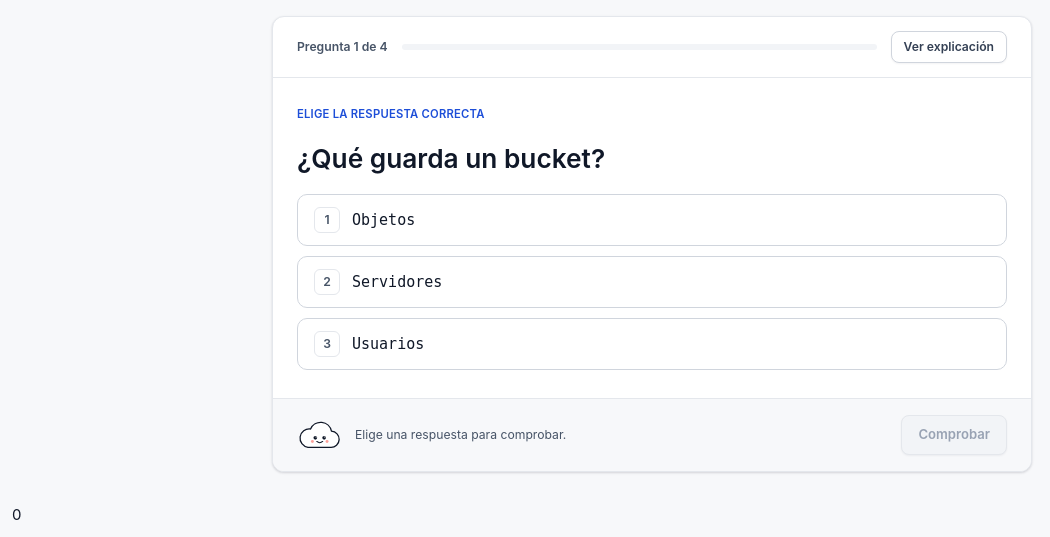
Test: a right answer then "Continuar" moves to the next exercise
Expected: the text "Pregunta 1 de 4" is shown, [297,38,388,56]
What coordinates should you click on to do the following:
click the radio button labelled "1 Objetos"
I would click on:
 (384, 220)
Its box is [297,194,1007,246].
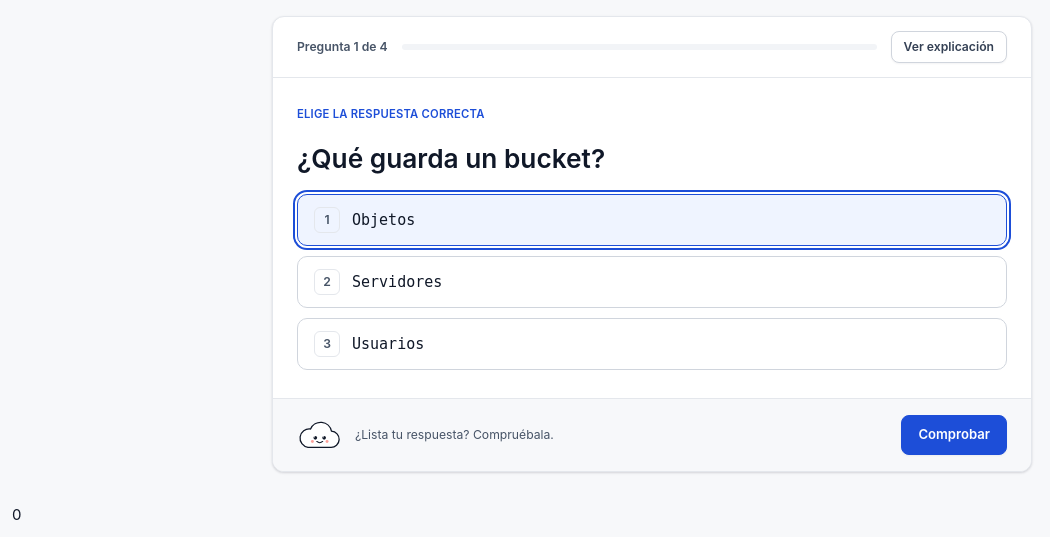
What coordinates should you click on to do the following:
click the button "Comprobar"
I would click on:
 (954, 435)
Its box is [901,415,1007,455].
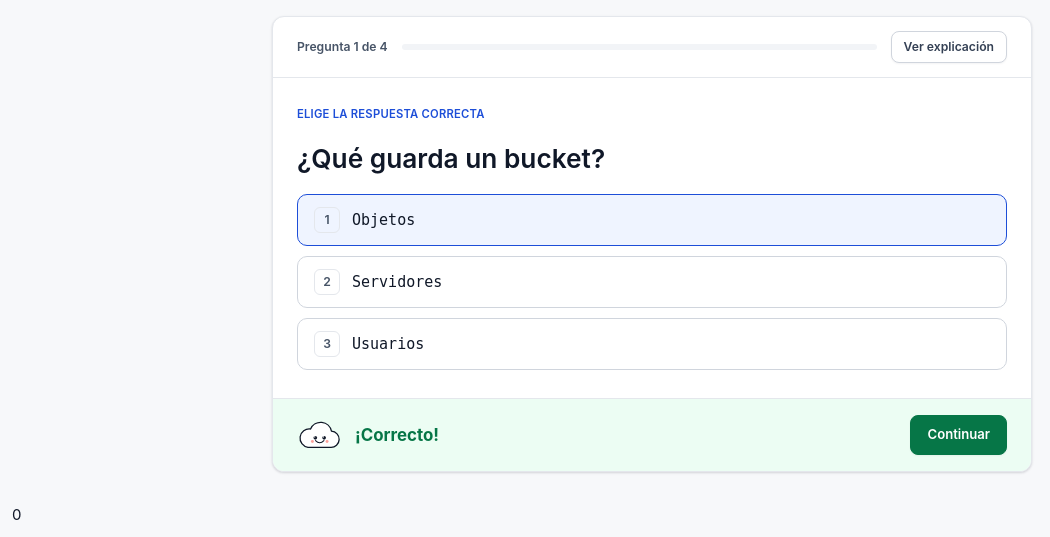
Expected: the message reads "¡Correcto!", [355,425,439,445]
What coordinates should you click on to do the following:
click the button "Continuar"
I would click on:
 (959, 435)
Its box is [910,415,1007,455].
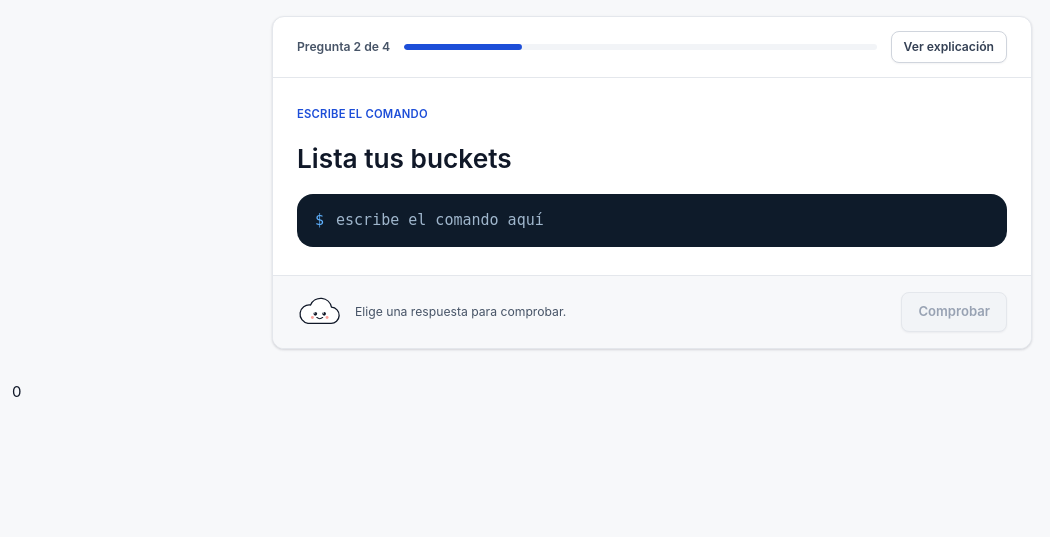
Expected: the text "Pregunta 2 de 4" is shown, [297,38,390,56]
Expected: the heading "Lista tus buckets" is shown, [297,143,512,174]
